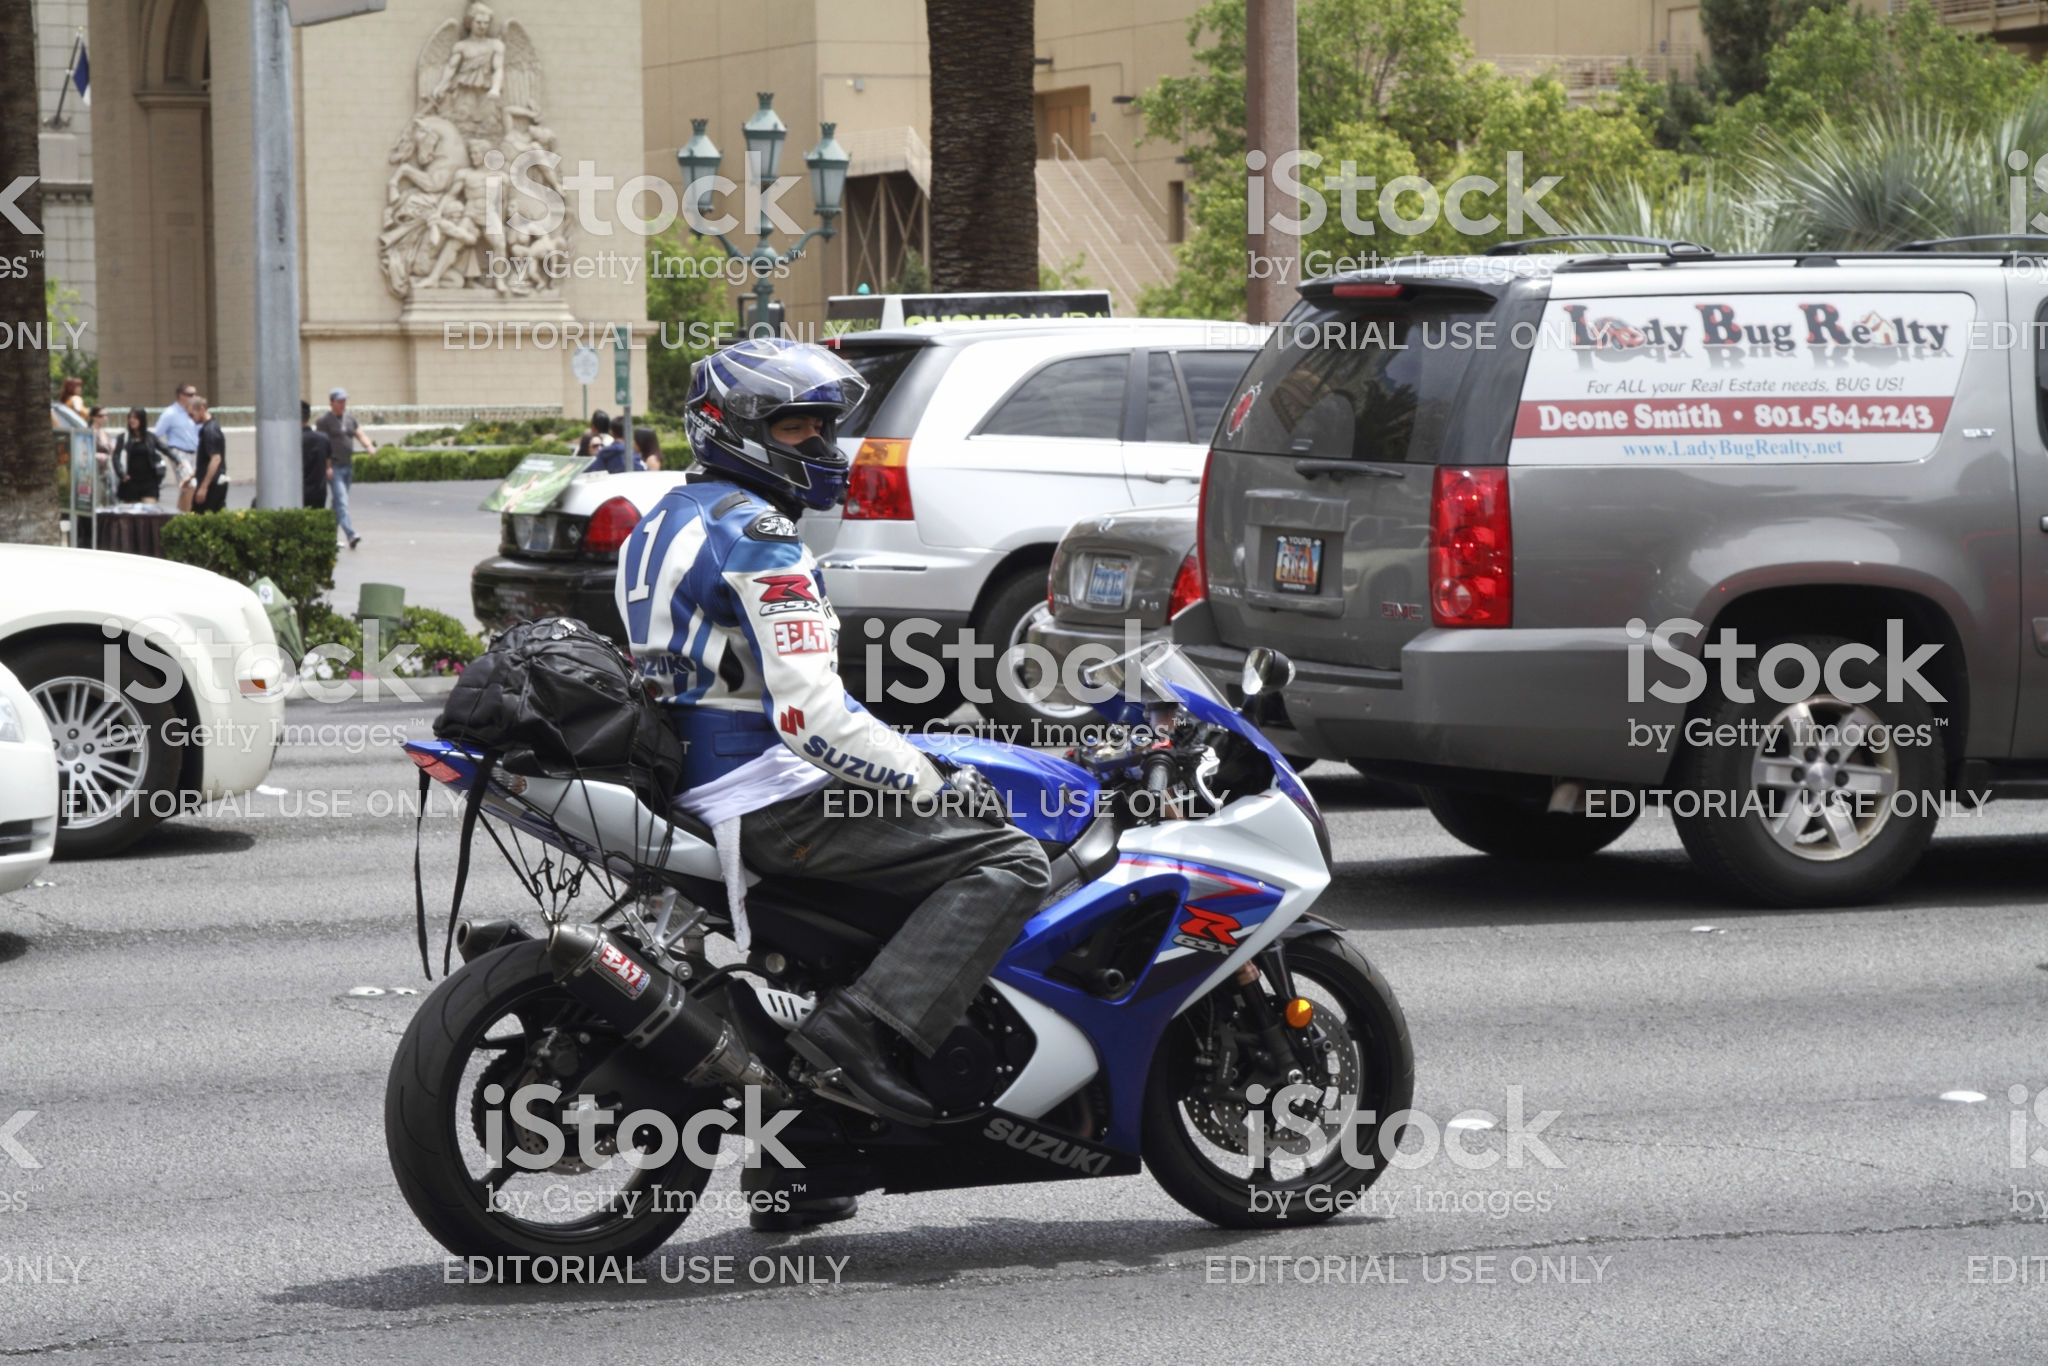helmet: (658, 300, 859, 543)
